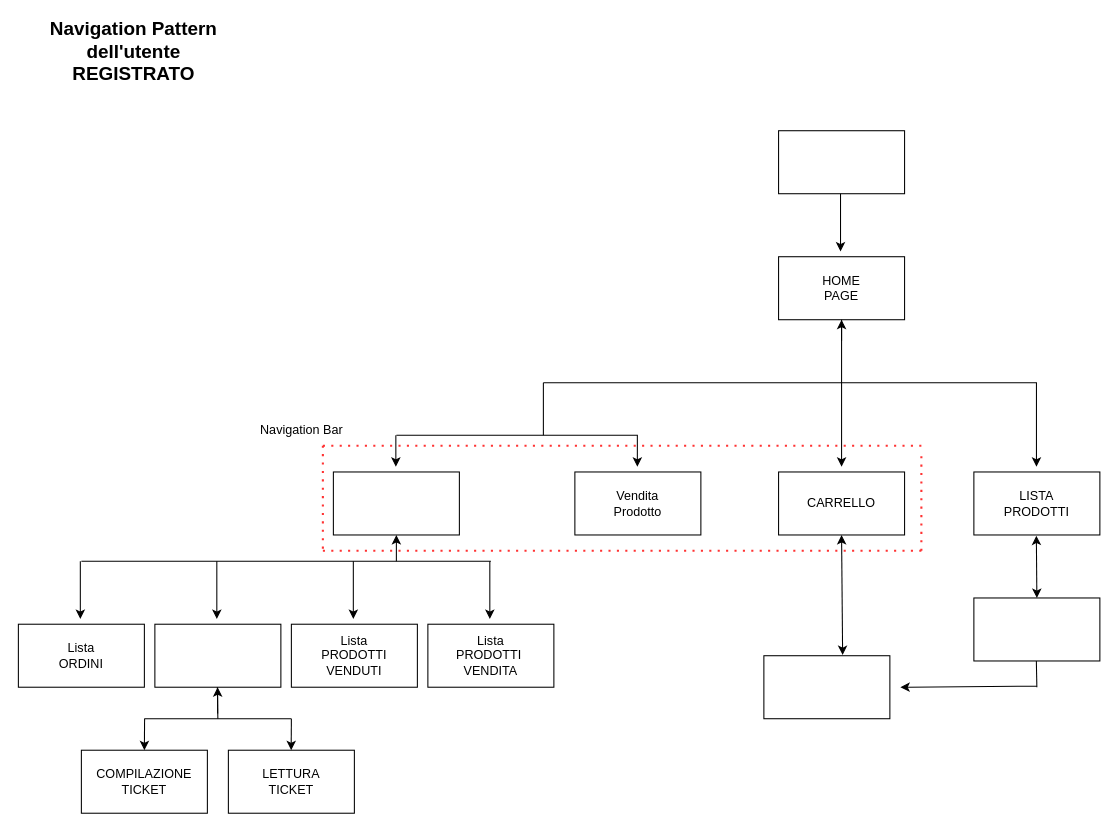
This 1118x832 diagram has some shape labels left out. Each missing label, with the box of its shape:
ACQUISTO: (763, 655, 890, 719)
Area Personale: (332, 471, 459, 535)
DETTAGLIO PRODOTTO: (973, 597, 1100, 661)
INTRO BEHUB: (778, 130, 905, 194)
TICKET PAGE: (154, 623, 281, 687)
